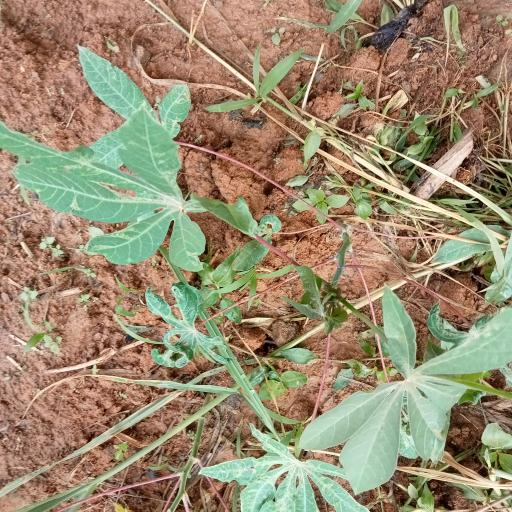Cassava_Mosaic: (17, 104, 209, 268), (209, 424, 365, 512)
